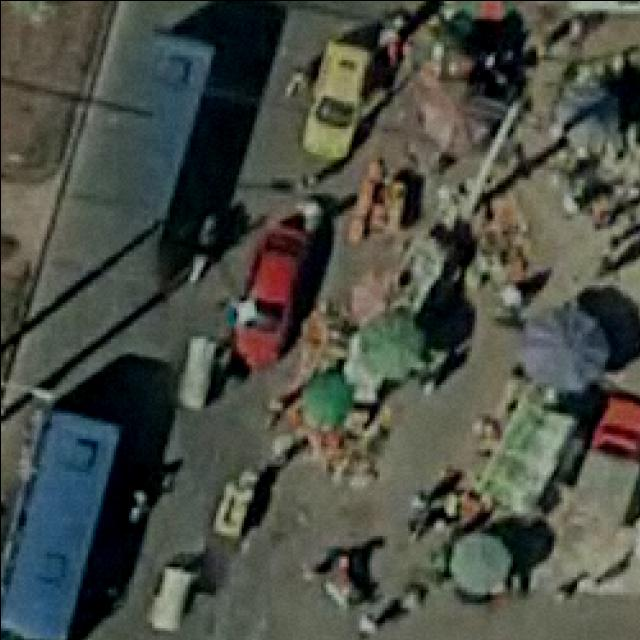vendedor_ambulante: (509, 295, 613, 400), (352, 302, 436, 382), (440, 518, 515, 600), (423, 0, 541, 38), (294, 362, 360, 428)
